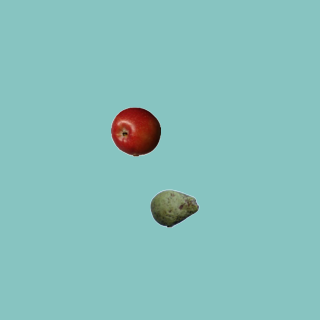Apple Braeburn: (110, 106, 160, 156)
Pear Stone: (149, 183, 199, 233)
